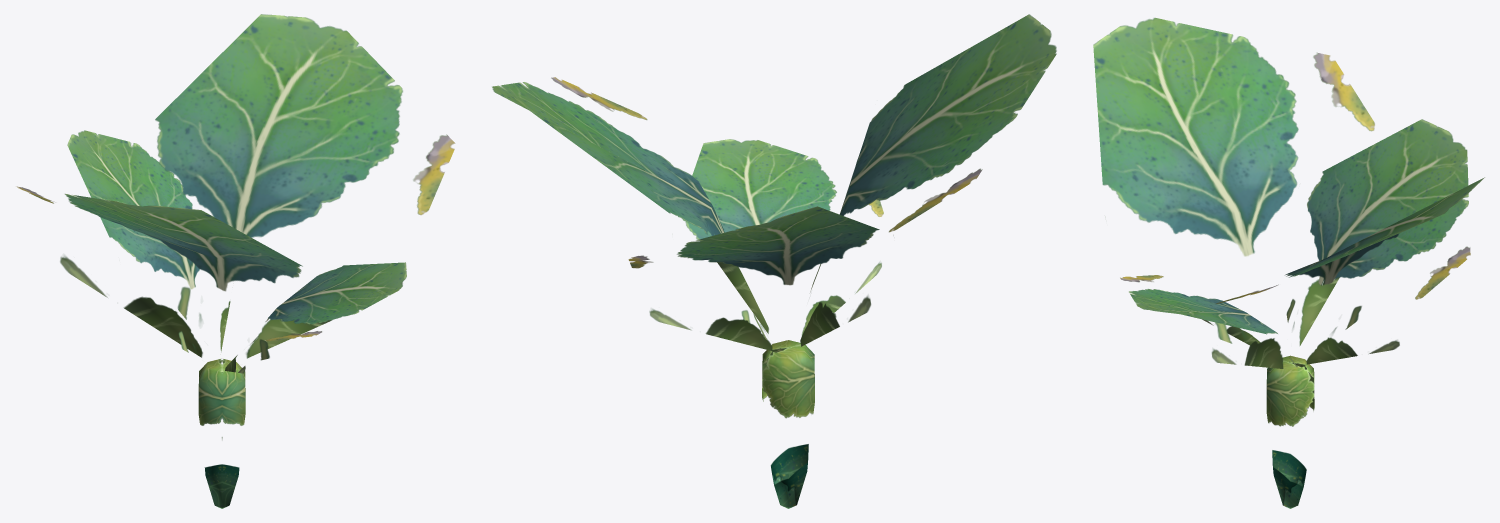
Rendered from plant_carrot_S3.gltf.
3 views of the same model, side by side, from view 1: azimuth 30°, elevation 25°; view 2: azimuth 150°, elevation 25°; view 3: azimuth 270°, elevation 25° (orthographic). The views are drawn at different scales.
Visible parts, largest first — view 1: plant_carrot_S3; view 2: plant_carrot_S3; view 3: plant_carrot_S3.
Boxes of the visible parts, <box> form: plant_carrot_S3: <box>16,14,455,508</box>; plant_carrot_S3: <box>492,14,1056,508</box>; plant_carrot_S3: <box>1093,18,1484,508</box>.
Bounding box in the file's own units: 0.6709 × 0.6327 × 0.5488.
